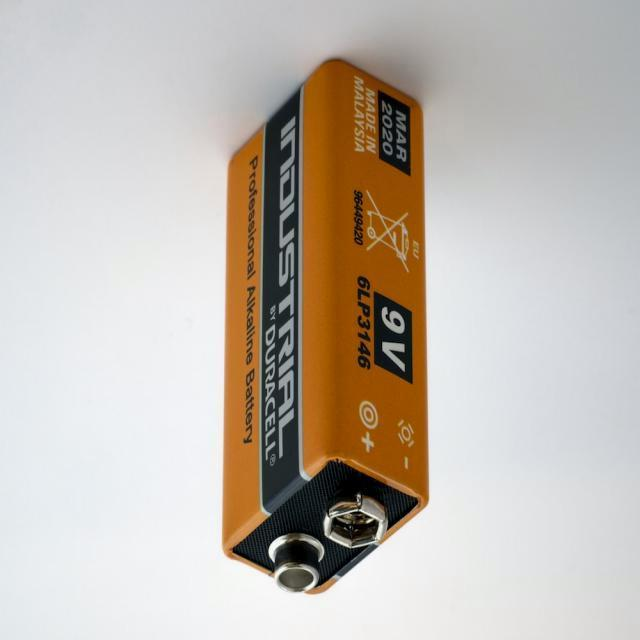battery: (222, 59, 429, 596)
